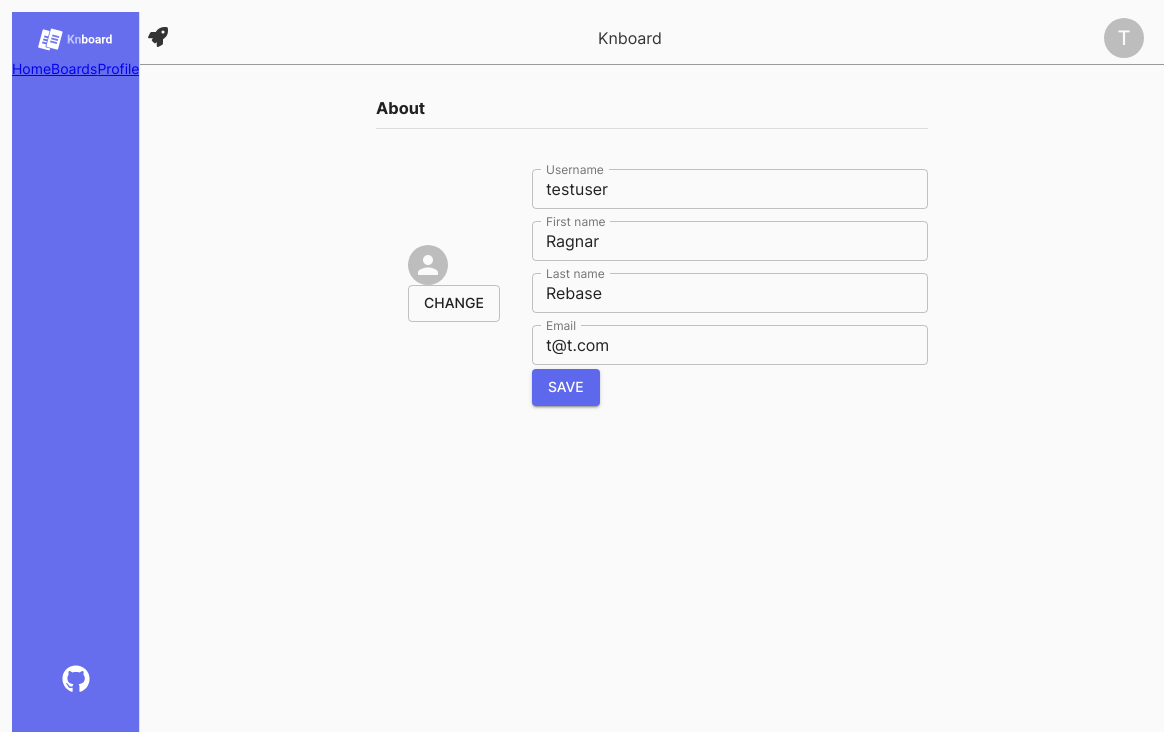
Test: Profile › should change username
Expected: the heading "About" is shown, [376,98,425,118]
Clear the field labelled "Username" at (730, 189), box [532,169,928,209]
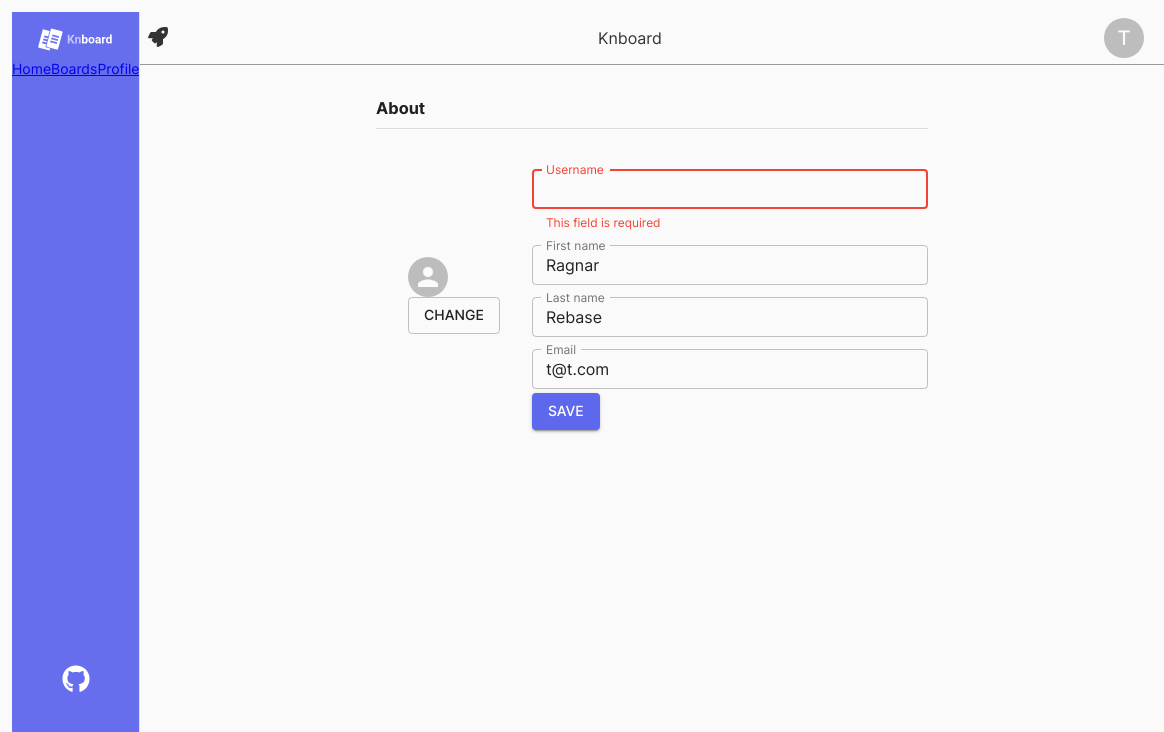
Now the text "This field is required" is shown, box [546,215,661,230]
Type "newname" into the field labelled "Username" at (730, 189), box [532,169,928,209]
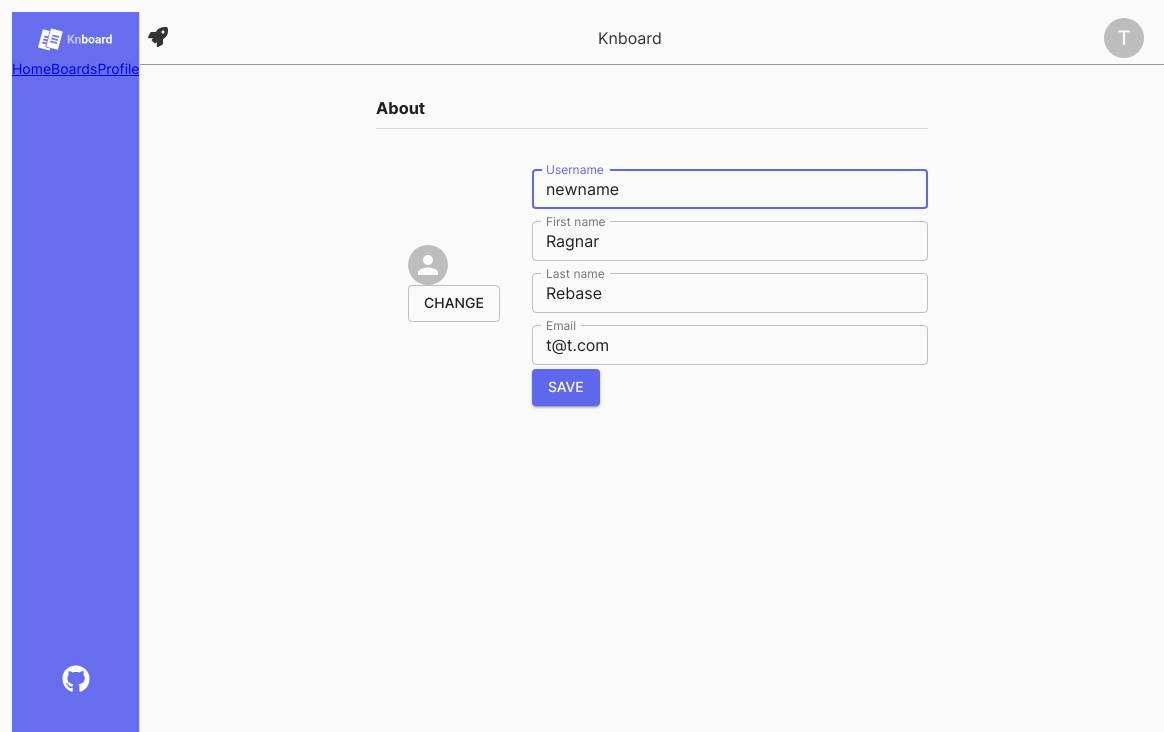
Click the text "Save" at (566, 388), box [548,375,584,400]
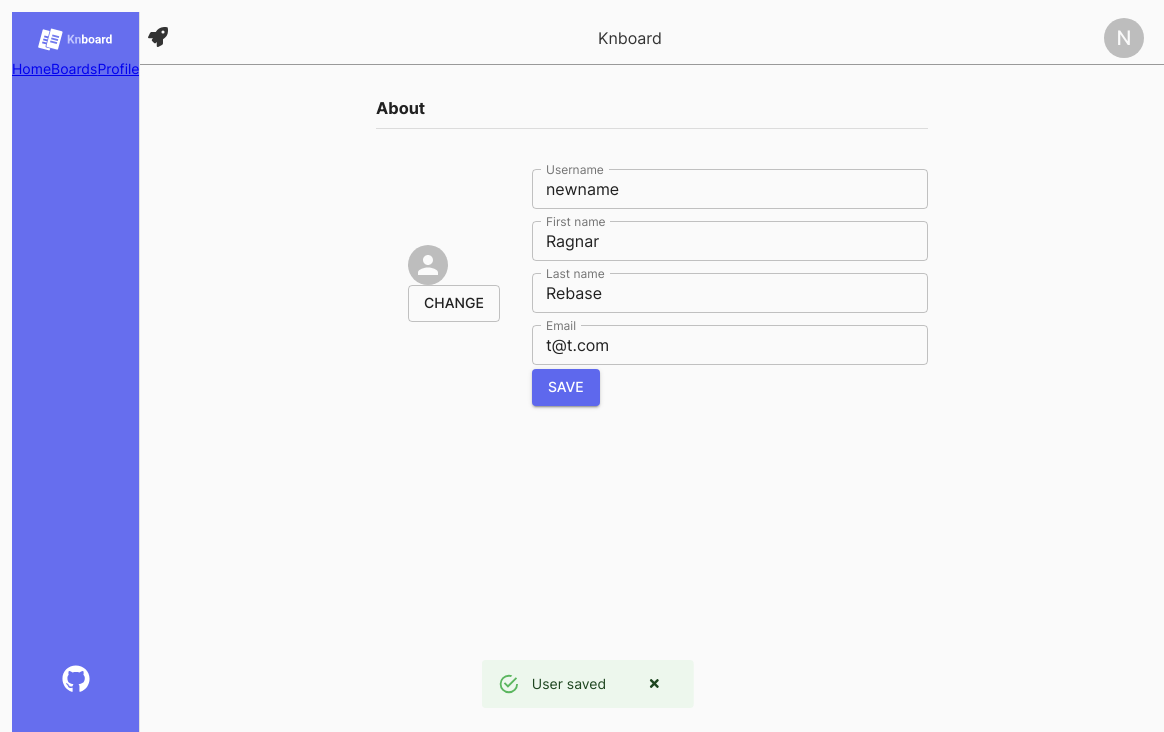
Now the text "User saved" is shown, box [532,675,606,692]
